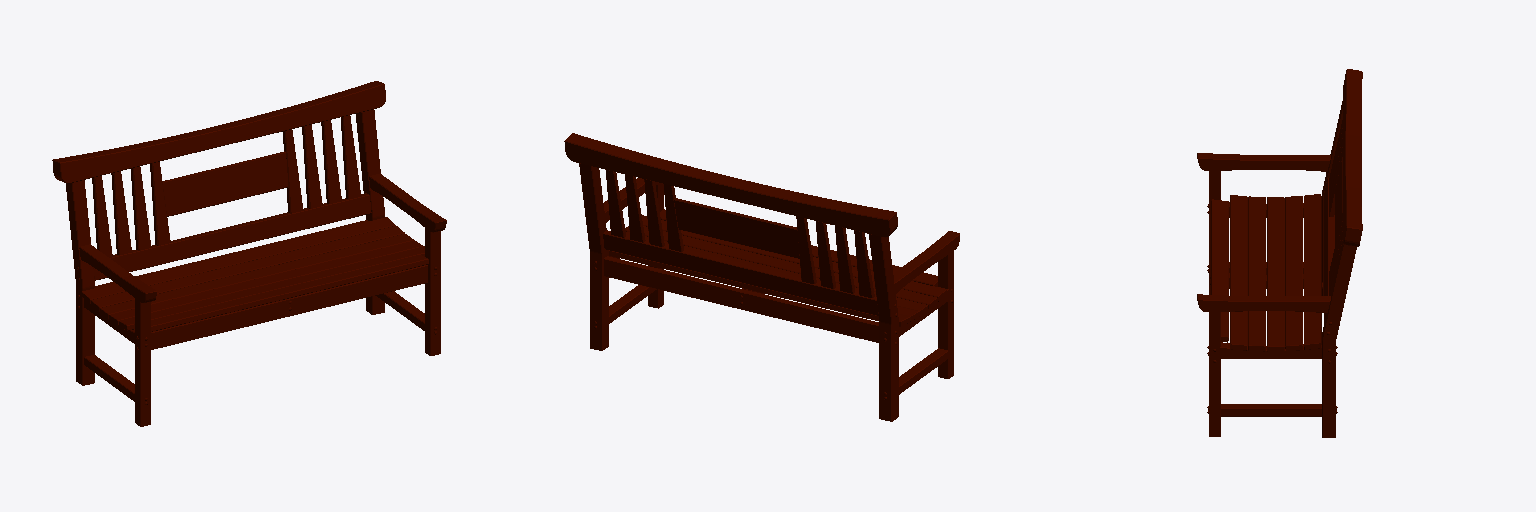
File: bench.obj
3 views of the same model, side by side, from view 1: azimuth 30°, elevation 25°; view 2: azimuth 150°, elevation 25°; view 3: azimuth 270°, elevation 25° (orthographic).
Visible parts, largest first — view 1: Bench.001; view 2: Bench.001; view 3: Bench.001.
Part boxes in pixels (x1,y1,x2,y2): Bench.001: (52,81,446,426); Bench.001: (564,133,959,421); Bench.001: (1197,69,1362,437).
Bounding box in the file's own units: 0.4983 × 0.3172 × 0.2194.